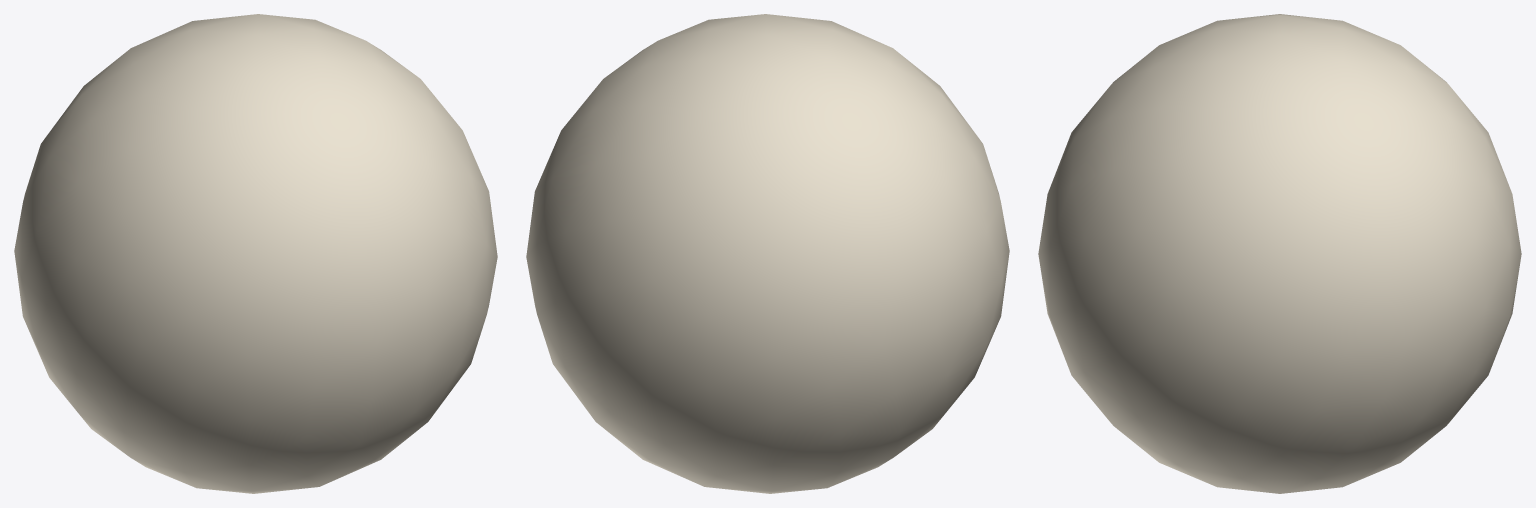
The model's file is skull_generic.glb.
3 views of the same model, side by side, from view 1: azimuth 30°, elevation 25°; view 2: azimuth 150°, elevation 25°; view 3: azimuth 270°, elevation 25° (orthographic).
Bounding box in the file's own units: 2 × 2 × 2.
